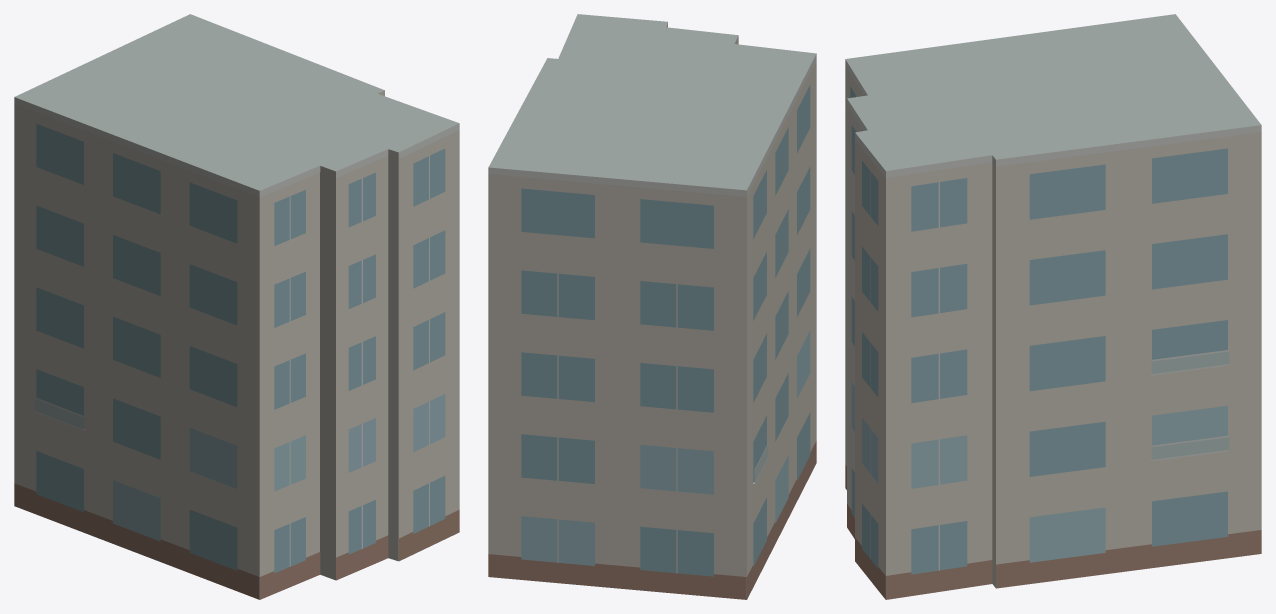
Rendered from survey-upis-32876497.glb.
The picture shows the model from 3 angles, left to right: view 1: azimuth 30°, elevation 25°; view 2: azimuth 150°, elevation 25°; view 3: azimuth 270°, elevation 25°; orthographic projection. The views are drawn at different scales.
Visible parts, largest first — view 1: survey-upis-32876497.tmp; view 2: survey-upis-32876497.tmp; view 3: survey-upis-32876497.tmp.
Boxes of the visible parts, box(x1,y1,x2,y2) form: survey-upis-32876497.tmp: box(14, 14, 459, 599); survey-upis-32876497.tmp: box(488, 14, 816, 599); survey-upis-32876497.tmp: box(845, 14, 1261, 599).
Size of the model in its own units: 11.88 by 15.1 by 13.3.
